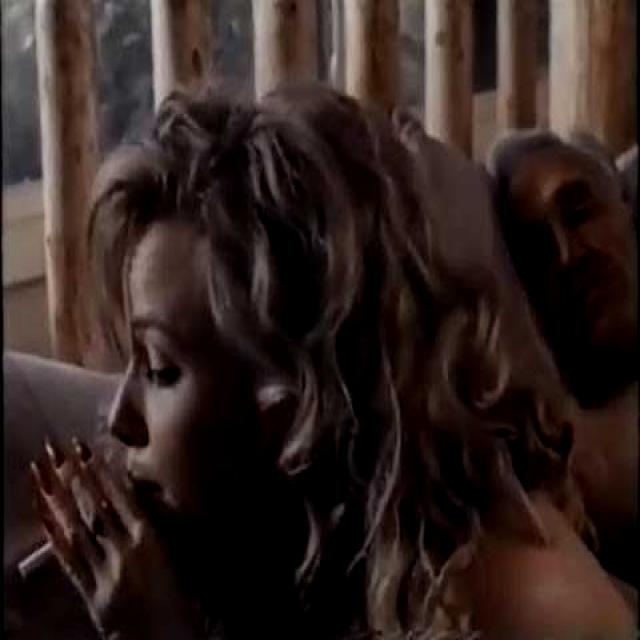Smooking: (10, 492, 105, 592)
